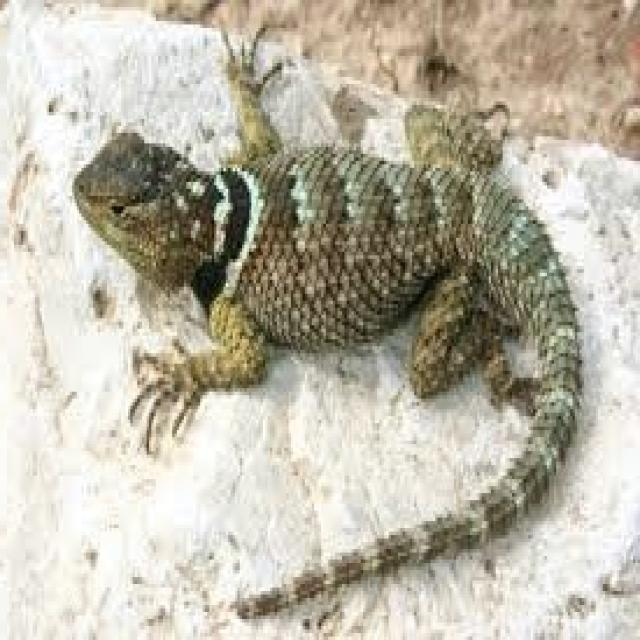lizard: (77, 28, 579, 612)
